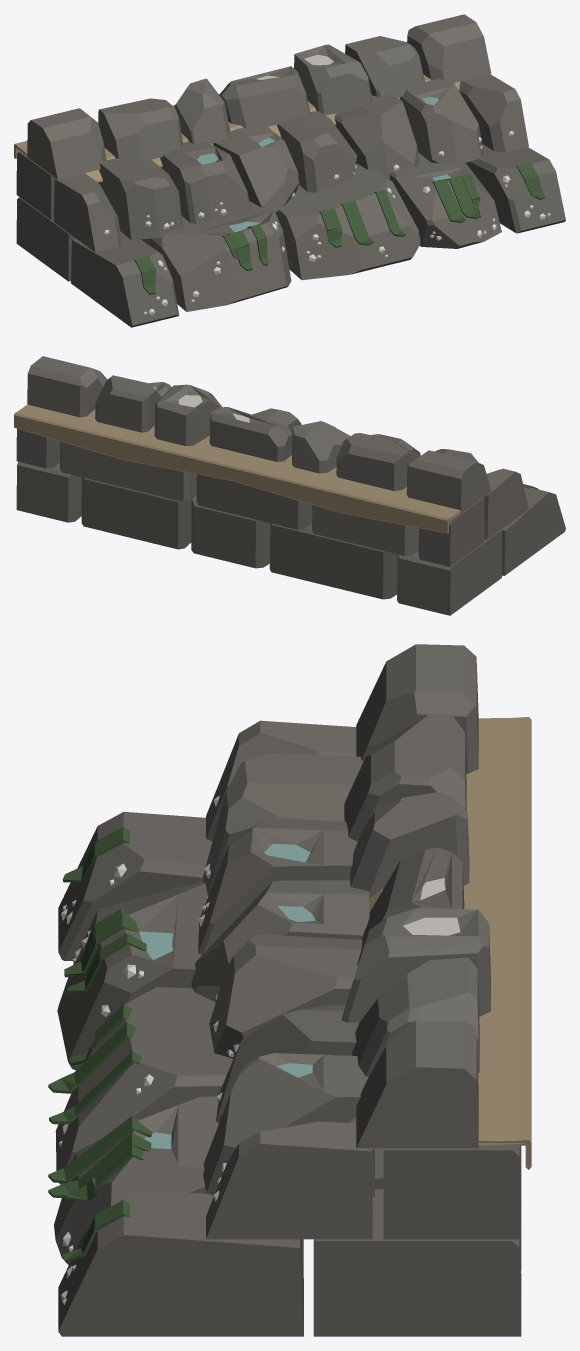
The model's file is rock-armour-revetment-aea1ca.glb.
The picture shows the model from 3 angles, top to bottom: view 1: azimuth 30°, elevation 25°; view 2: azimuth 150°, elevation 25°; view 3: azimuth 270°, elevation 25°; orthographic projection. The views are drawn at different scales.
Parts seen in each view (by area): view 1: revetment-body; view 2: revetment-body; view 3: revetment-body.
Part boxes in pixels (x1,y1,x2,y2): revetment-body: (14, 14, 565, 327); revetment-body: (14, 356, 565, 615); revetment-body: (48, 644, 531, 1336).
Bounding box in the file's own units: 4 × 1.19 × 1.93.
